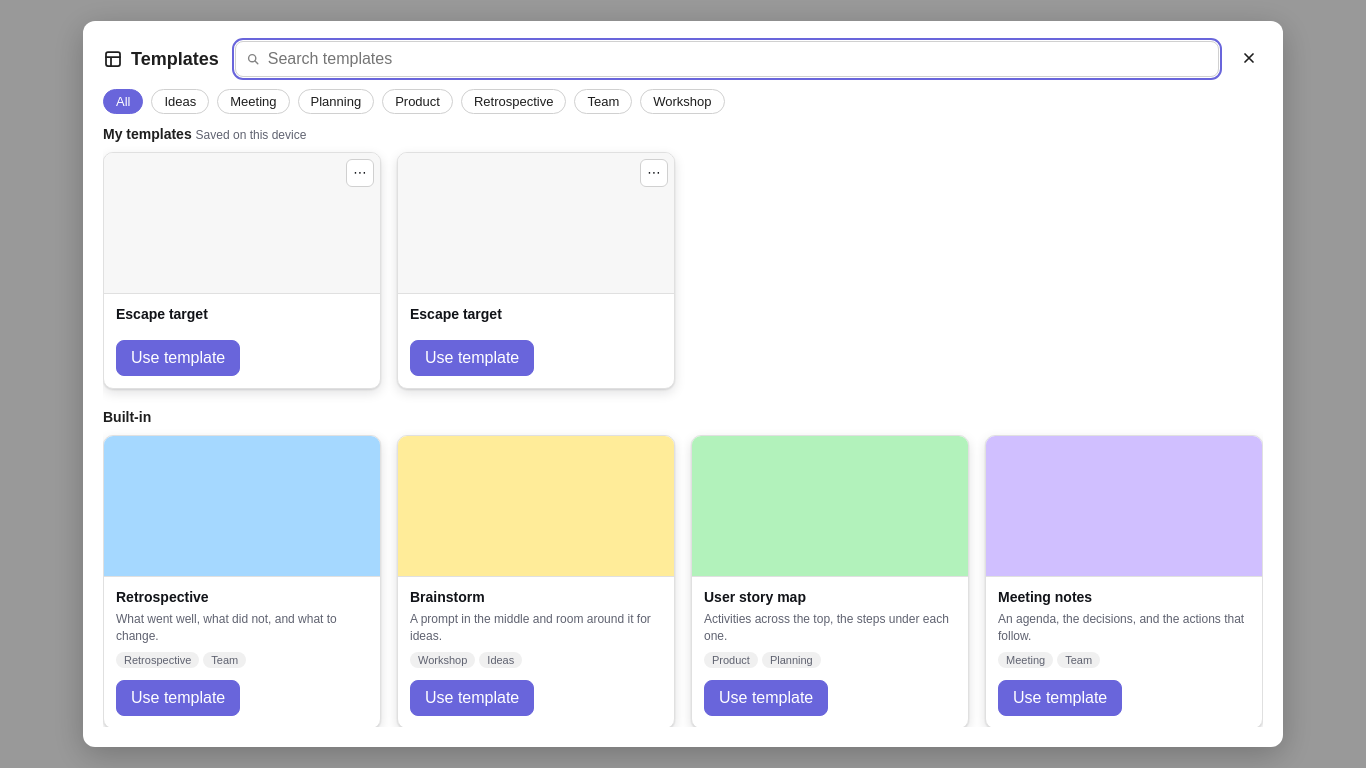
it: TemplateModal Escape rungs › closes the edit dialog before the gallery
Step 1. Click the 1st button "⋯" → (360,173), box [346, 159, 374, 187]
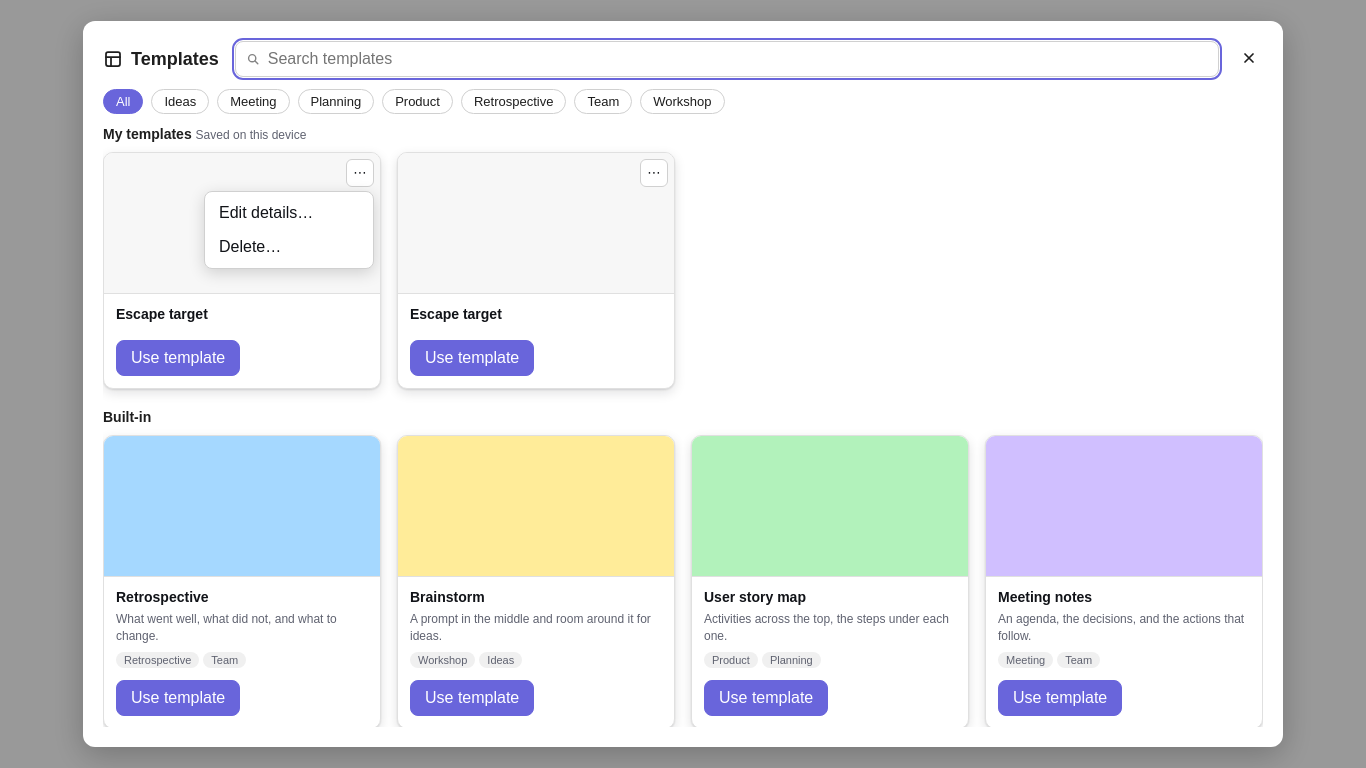
Step 2. Click the menu item "Edit details…" → (289,213), box [209, 196, 369, 230]
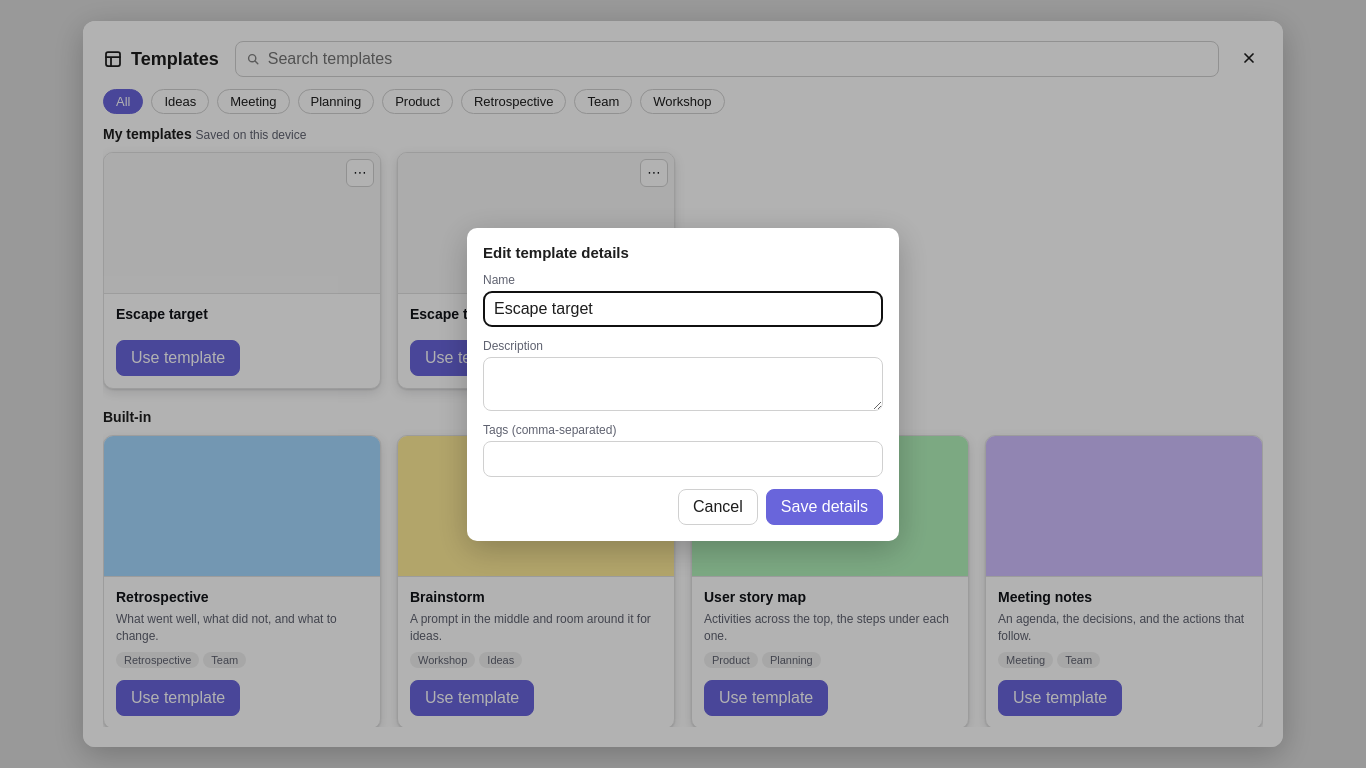
expect the dialog with test id "template-edit-dialog" is shown: met
Step 3. Press Escape in the dialog with test id "template-edit-dialog", box [467, 228, 899, 540]
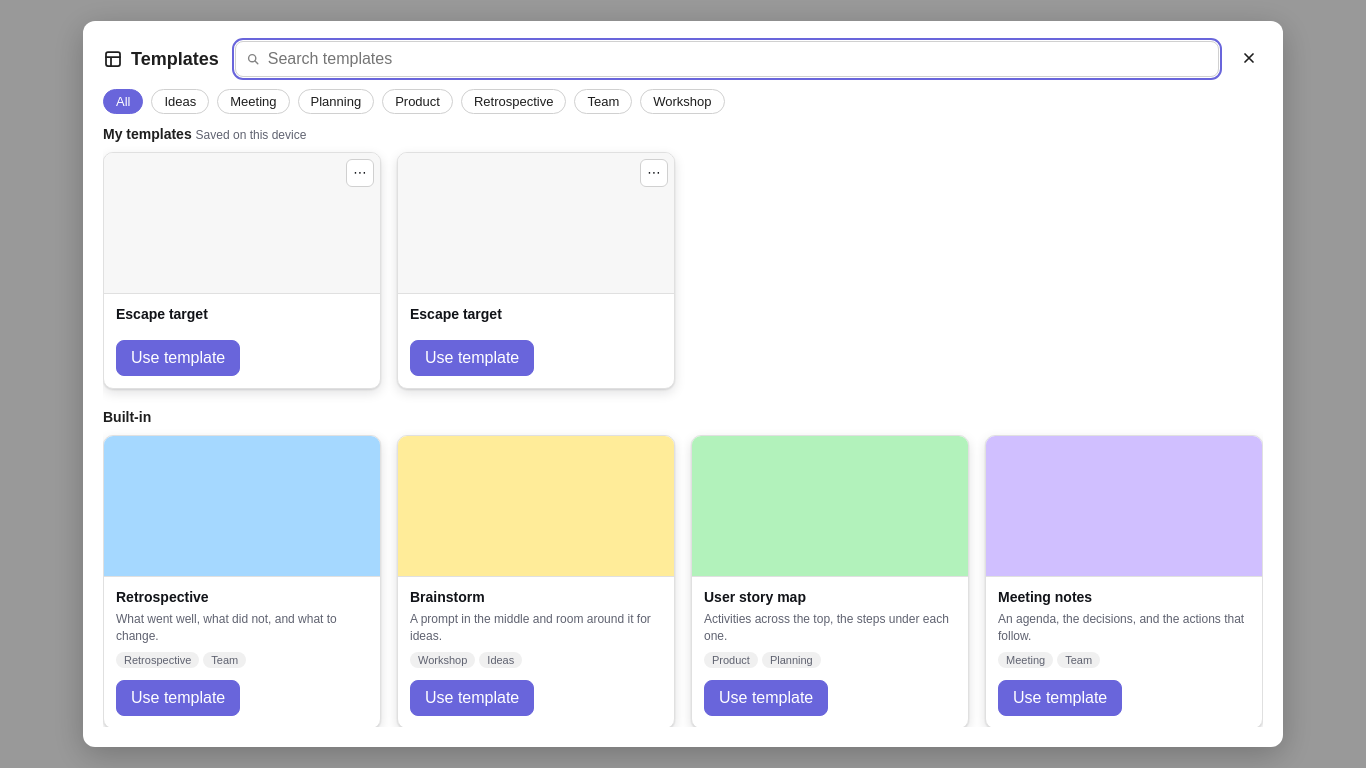
expect the dialog with test id "template-edit-dialog" is gone: met
